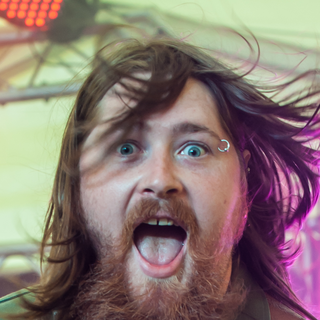eye: (173, 138, 219, 163), (106, 135, 147, 162)
